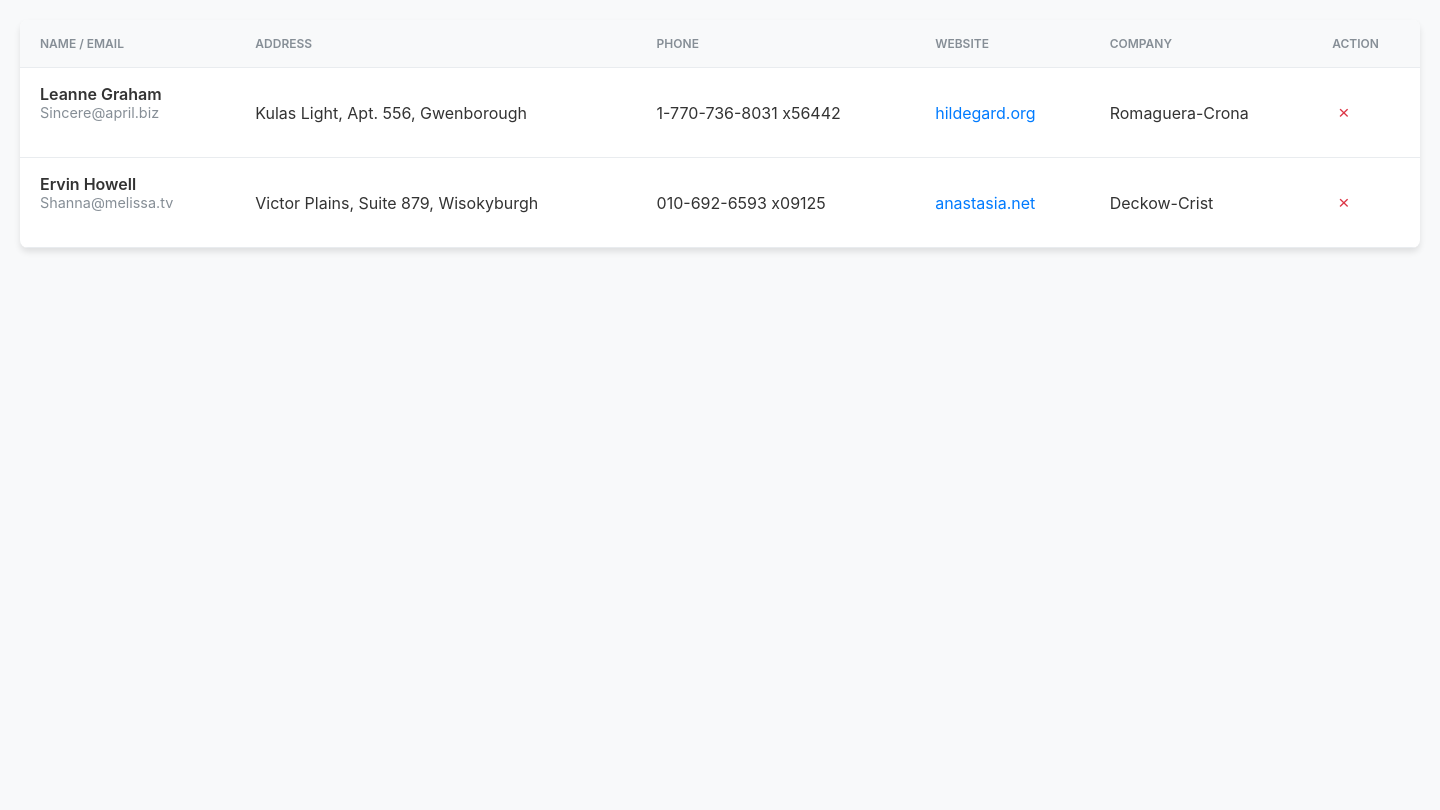
it: UserTable › opens the modal when a user row is clicked
Click the text "Leanne Graham": (720, 112) [20,68,1420,158]
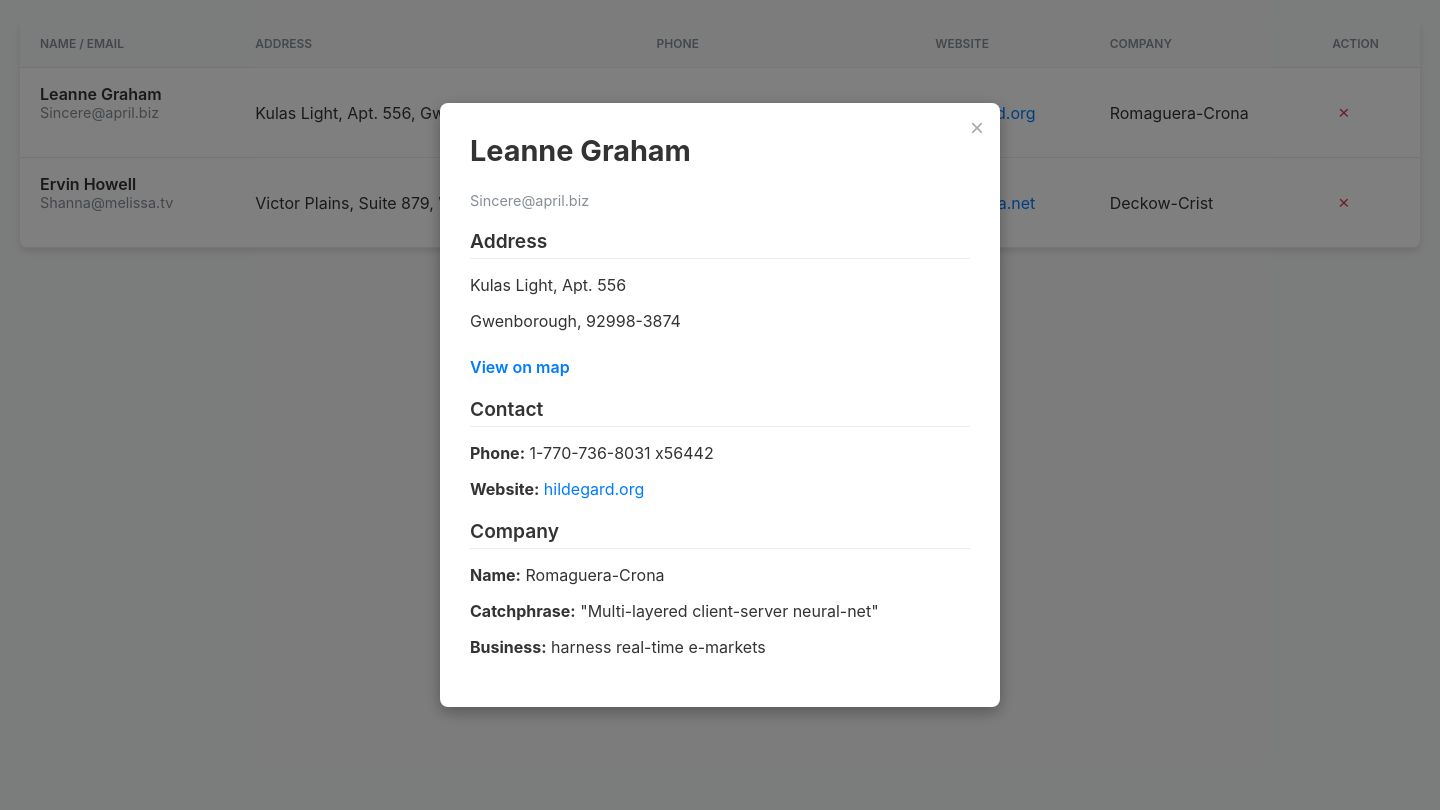
Now the heading "Leanne Graham" is shown, box [470,133,691,168]
